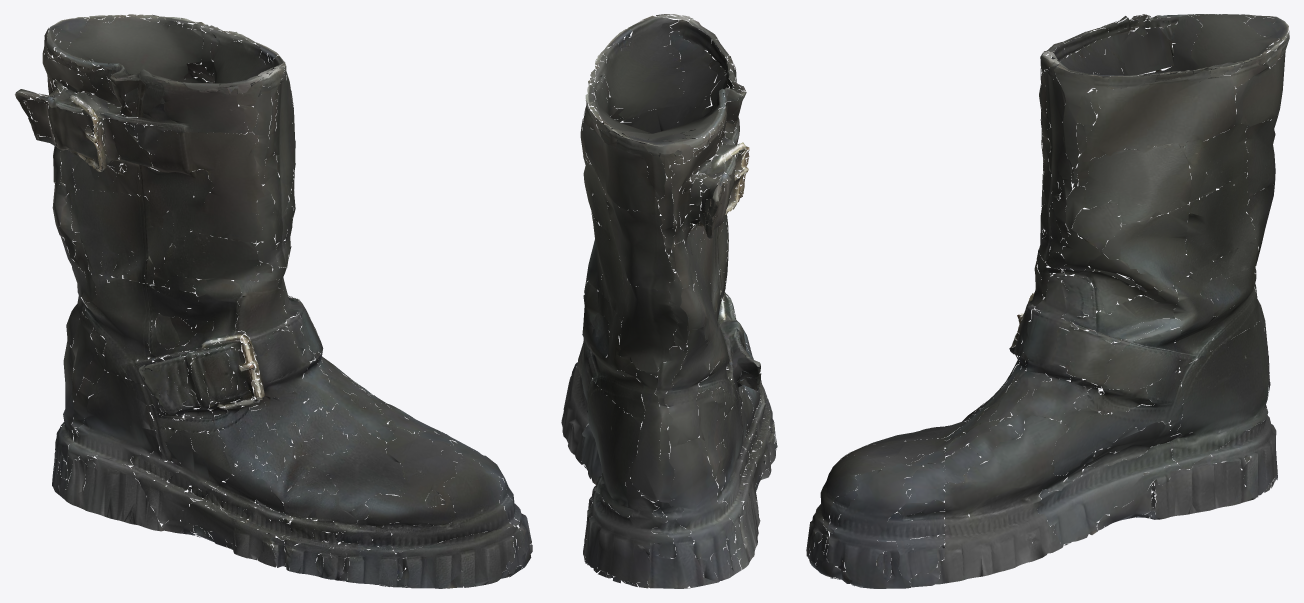
File: asset.glb
The picture shows the model from 3 angles, left to right: view 1: azimuth 30°, elevation 25°; view 2: azimuth 150°, elevation 25°; view 3: azimuth 270°, elevation 25°; orthographic projection. The views are drawn at different scales.
Parts seen in each view (by area): view 1: Mesh_0; view 2: Mesh_0; view 3: Mesh_0.
Boxes of the visible parts, x1,y1,x2,y2 form: Mesh_0: [15, 14, 532, 588]; Mesh_0: [561, 14, 777, 588]; Mesh_0: [806, 14, 1289, 588].
Size of the model in its own units: 0.4738 by 0.6389 by 0.6202.
1 material, 1 textured.
